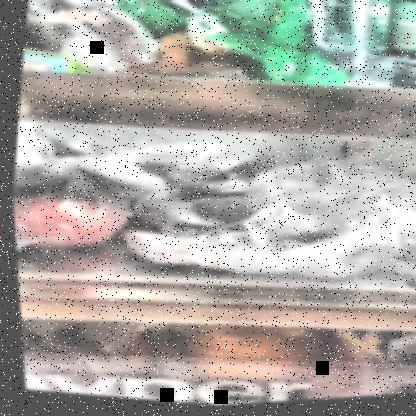mineral_water: (311, 0, 415, 79)
tomato: (9, 176, 127, 255)
